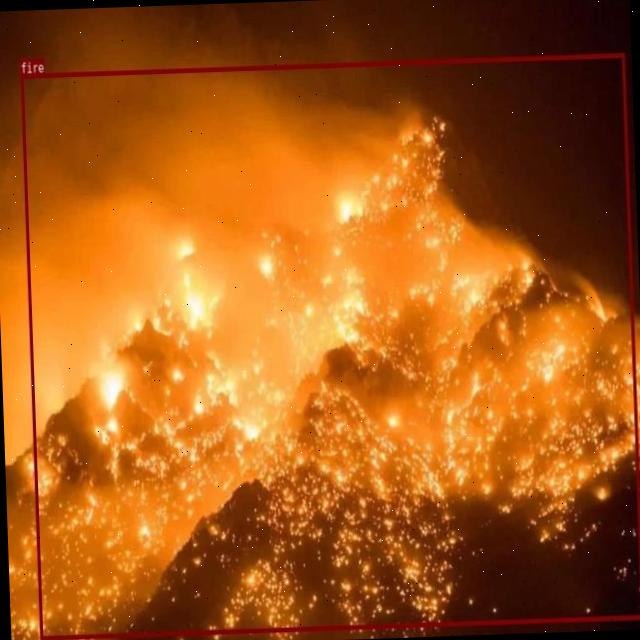fire: (20, 52, 640, 639)
